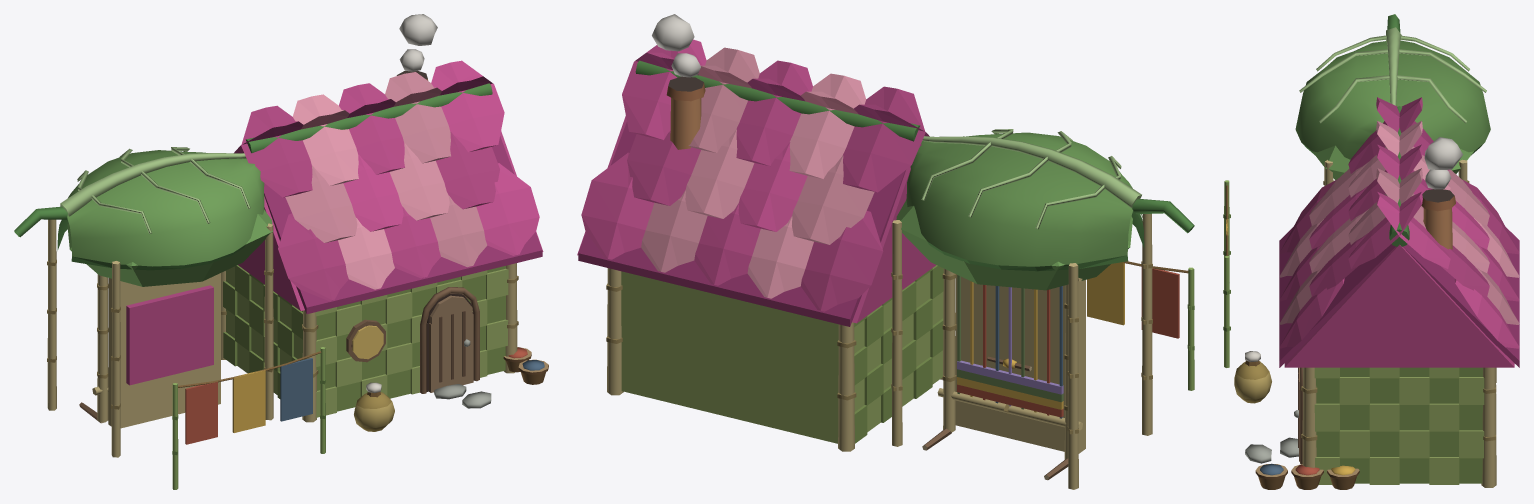
The model's file is weaver.glb.
3 renders of one model, left to right at view 1: azimuth 30°, elevation 25°; view 2: azimuth 150°, elevation 25°; view 3: azimuth 270°, elevation 25°, orthographic. The views are drawn at different scales.
Parts seen in each view (by area): view 1: body_nl, body, body__far, body_nh; view 2: body_nl, body__far, body, body_nh; view 3: body_nl, body, body__far, body_nh.
Part boxes in pixels (bbox=[...]): body_nl: bbox=[57, 14, 542, 444]; body: bbox=[14, 71, 548, 489]; body__far: bbox=[67, 131, 543, 428]; body_nh: bbox=[77, 147, 321, 387]; body_nl: bbox=[578, 14, 1179, 338]; body__far: bbox=[577, 115, 1132, 453]; body: bbox=[606, 76, 1194, 489]; body_nh: bbox=[921, 129, 1188, 418]; body_nl: bbox=[1226, 40, 1519, 367]; body: bbox=[1223, 14, 1496, 489]; body__far: bbox=[1284, 145, 1514, 367]; body_nh: bbox=[1226, 35, 1486, 255].
Bounding box in the file's own units: 4.57 × 2.88 × 2.32.
